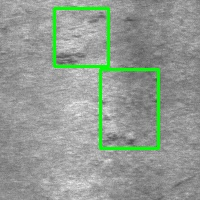rolled-in_scale: (100, 69, 158, 148), (54, 9, 108, 66)
